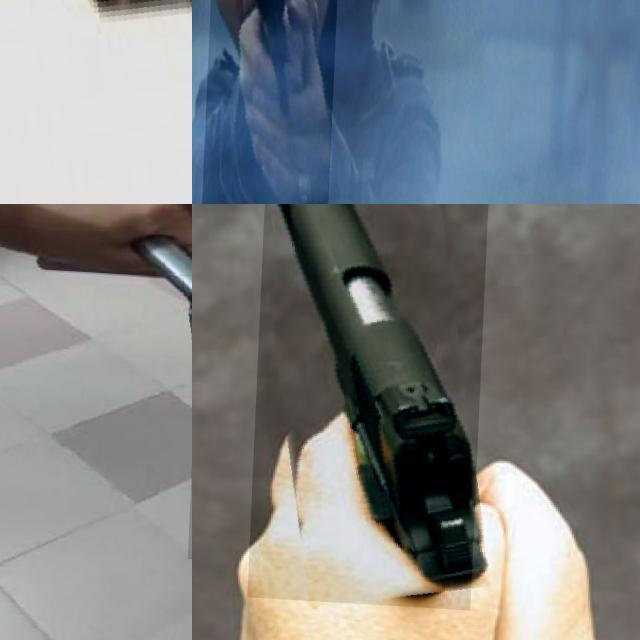gun-knife-thesis - v11 Yolov5 augmented: (252, 204, 491, 605), (0, 0, 192, 204), (206, 0, 342, 204)
